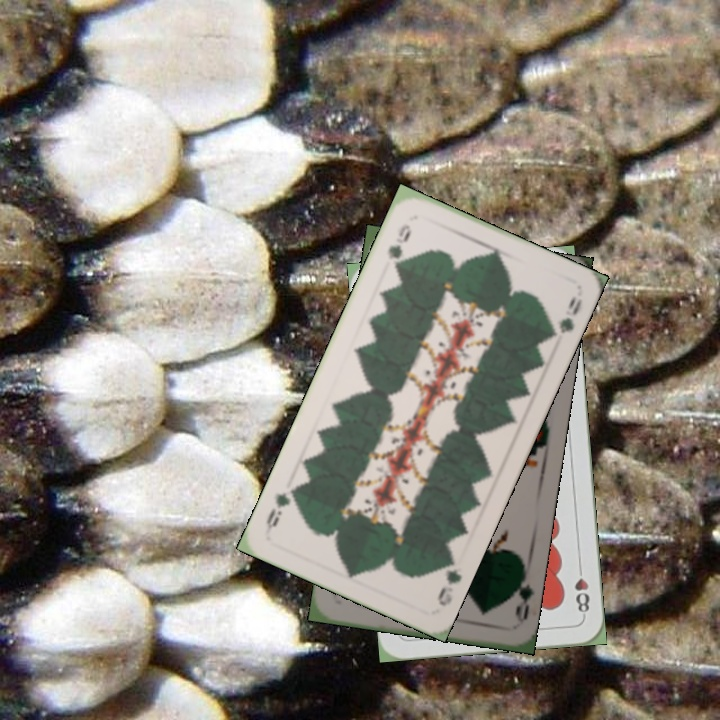G9: (433, 551, 465, 609), (384, 220, 414, 273)
GO: (506, 566, 535, 626)
H8: (570, 560, 592, 619)
